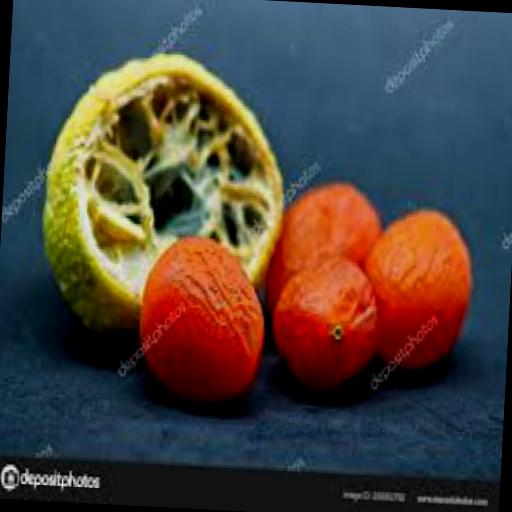biodegradable: (34, 42, 292, 344), (134, 230, 270, 402), (359, 204, 474, 370), (262, 177, 380, 333), (269, 242, 382, 392)
